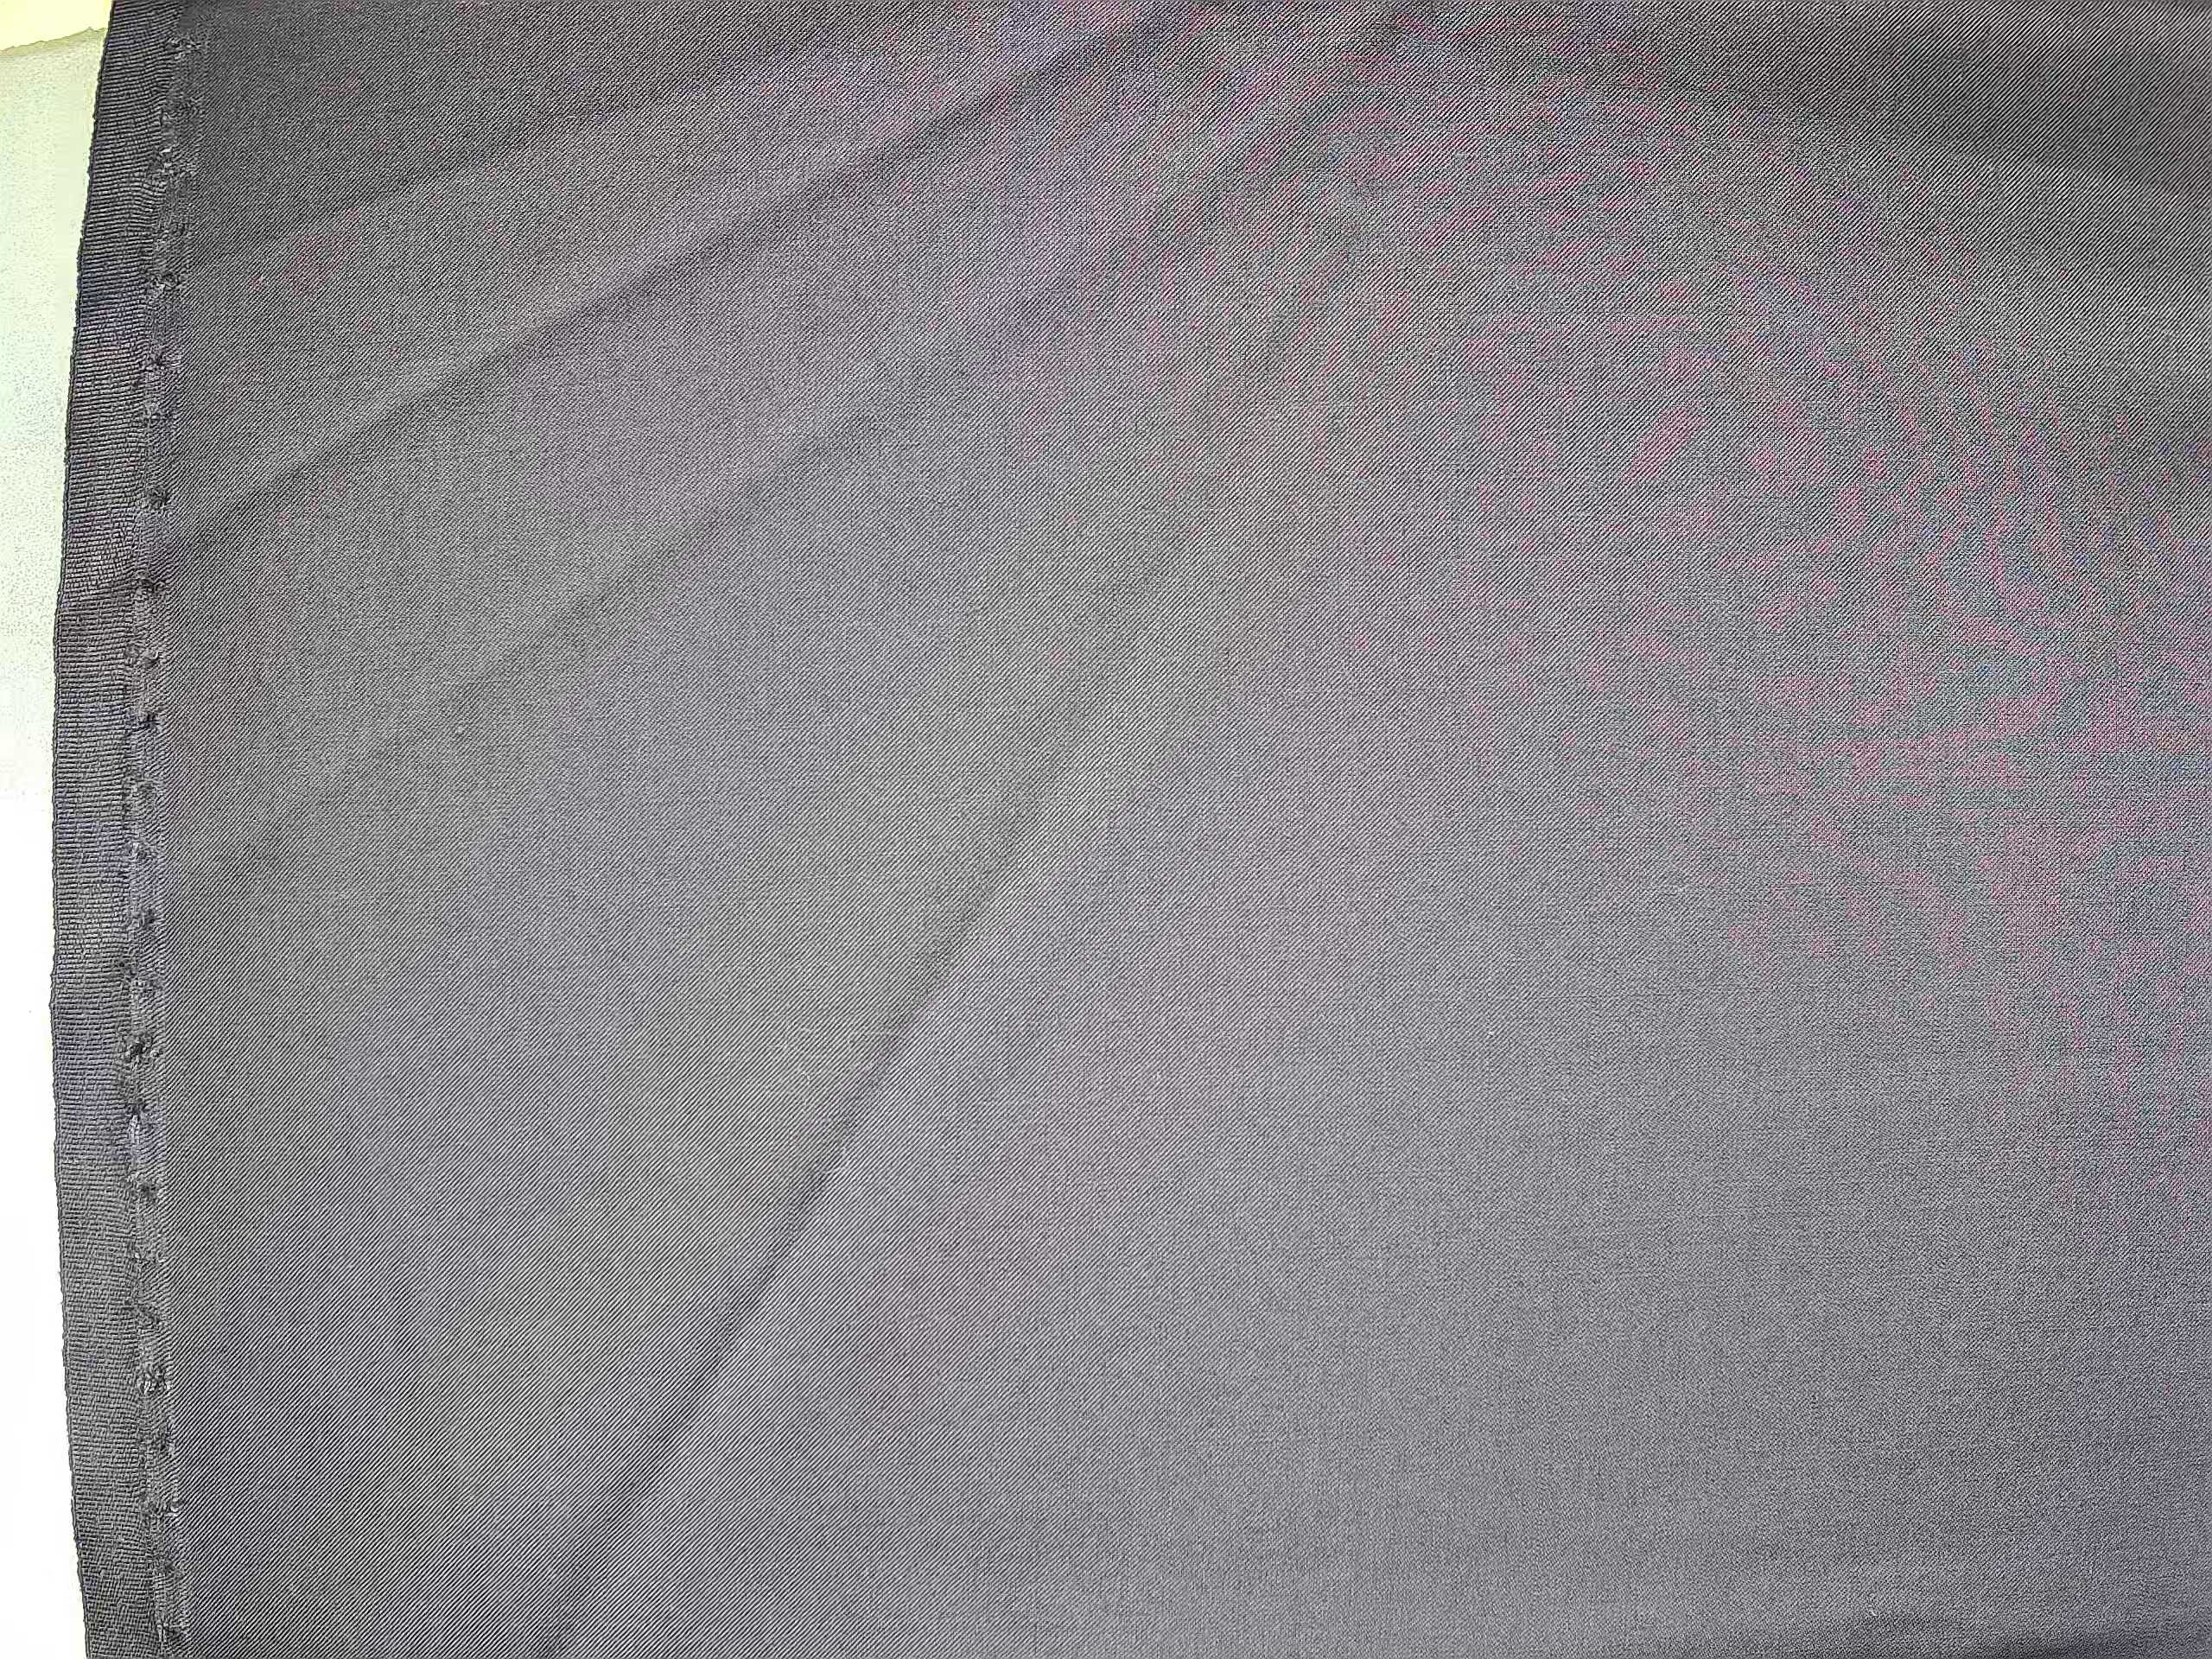puncture-hole: (113, 38, 202, 1643)
